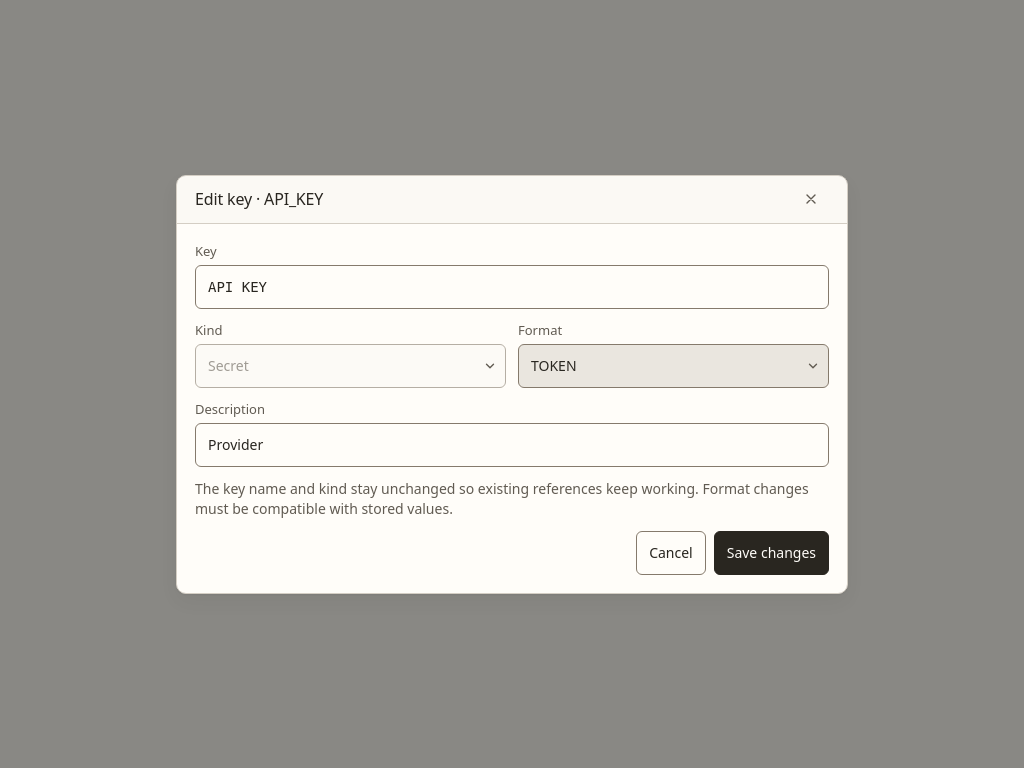
Test: Configuration declaration and editing › keeps the modal open with a sanitized error when the revision or format is rejected
Click the button "Save changes". click: x=771, y=552
box: [714, 530, 829, 574]
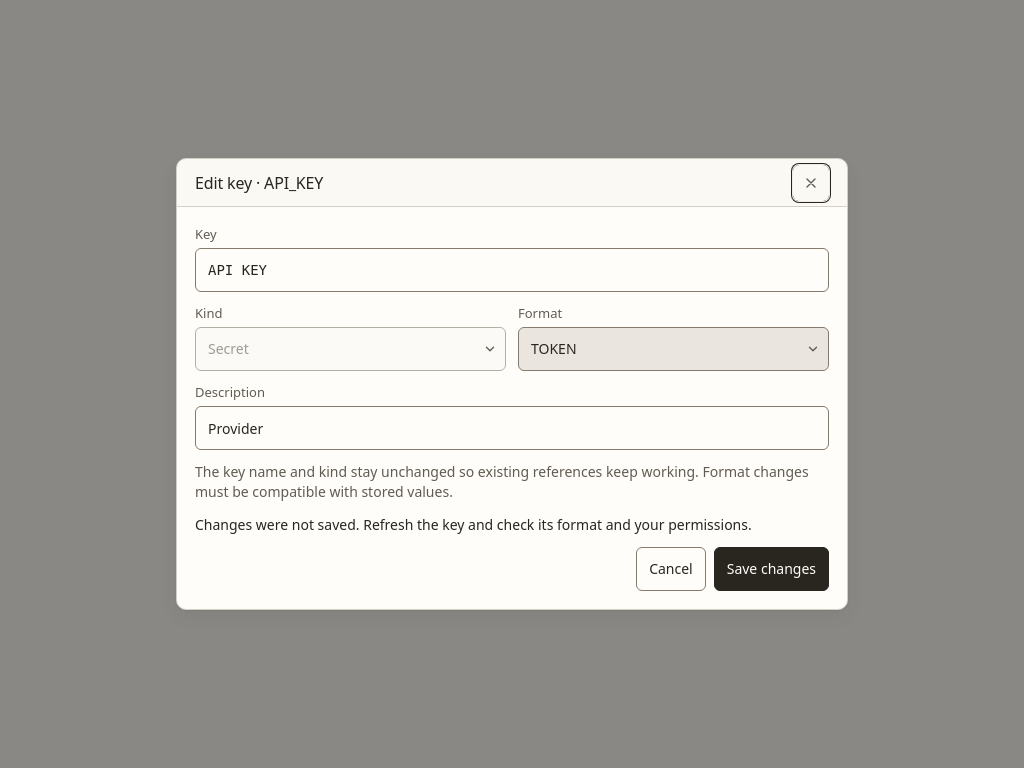
Now the message shows "not saved", box [195, 515, 752, 534]
